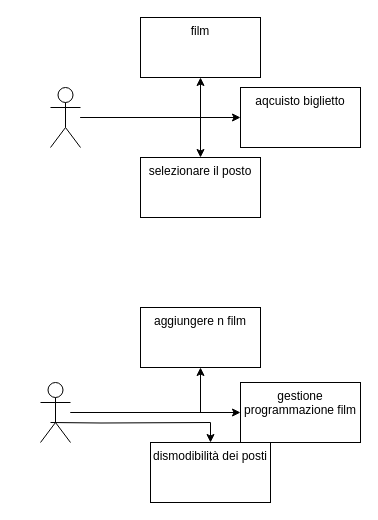
This 378x520 diagram has some shape labels left out. Here are the shapes that lost their labels. From the top down, the centre of each, then its label:
(x=65, y=117): cliente
(x=55, y=412): amminstratore
